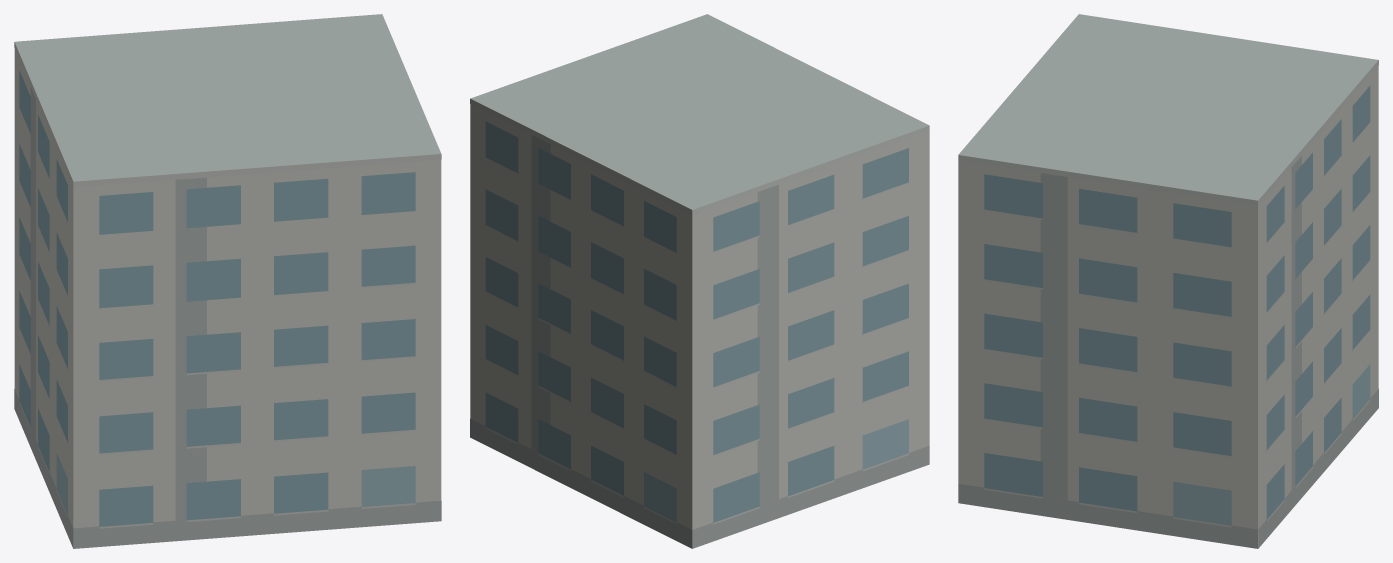
Rendered from residential-21f020c2-3891-409f-aec1-2d9b6b561ee9.glb.
The picture shows the model from 3 angles, left to right: view 1: azimuth 30°, elevation 25°; view 2: azimuth 150°, elevation 25°; view 3: azimuth 270°, elevation 25°; orthographic projection. The views are drawn at different scales.
Visible parts, largest first — view 1: residential-21f020c2-3891-409f-aec1-2d9b6b561ee9.tmp; view 2: residential-21f020c2-3891-409f-aec1-2d9b6b561ee9.tmp; view 3: residential-21f020c2-3891-409f-aec1-2d9b6b561ee9.tmp.
Part boxes in pixels (left/top/right/bottom): residential-21f020c2-3891-409f-aec1-2d9b6b561ee9.tmp: left=14, top=14, right=441, bottom=548; residential-21f020c2-3891-409f-aec1-2d9b6b561ee9.tmp: left=470, top=14, right=929, bottom=548; residential-21f020c2-3891-409f-aec1-2d9b6b561ee9.tmp: left=958, top=14, right=1378, bottom=548.
Bounding box in the file's own units: 17.54 × 15.25 × 16.7.
